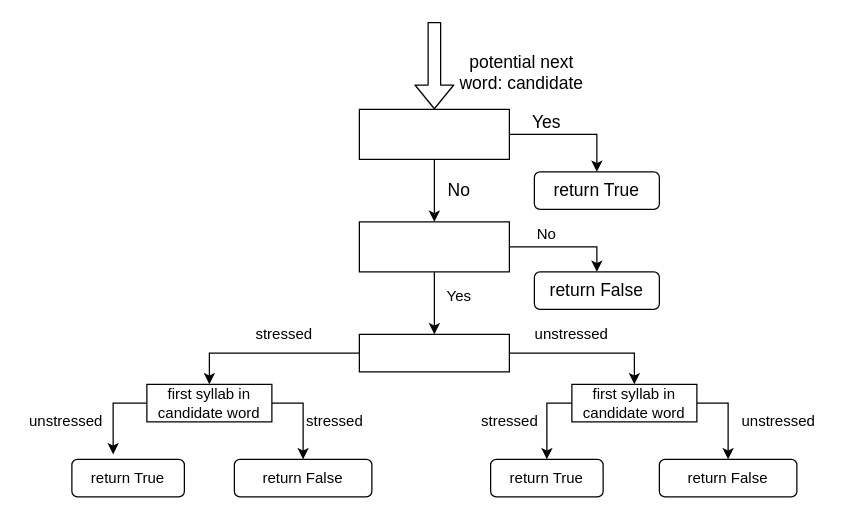
The diagram is 843 pixels wide and 519 high, and some of its shapes have lost their labels. The centre of each missing label's shape, as x and y in pixels:
"has current word 1 or 0 only syllabs?" belongs at point 433,133.
"is candidate in dictionary?" belongs at point 433,246.
"last syllab in current word" belongs at point 433,352.
